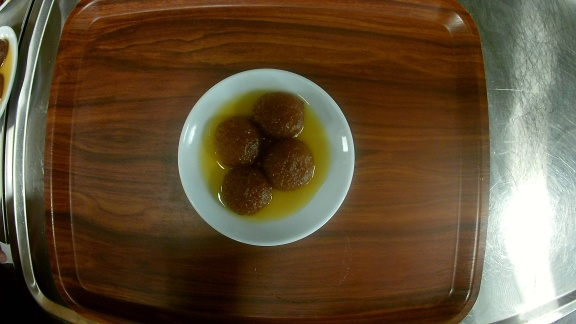kemalpasa: (176, 69, 358, 246)
